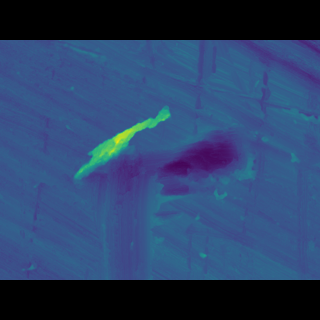Loch: (67, 125, 270, 202)
